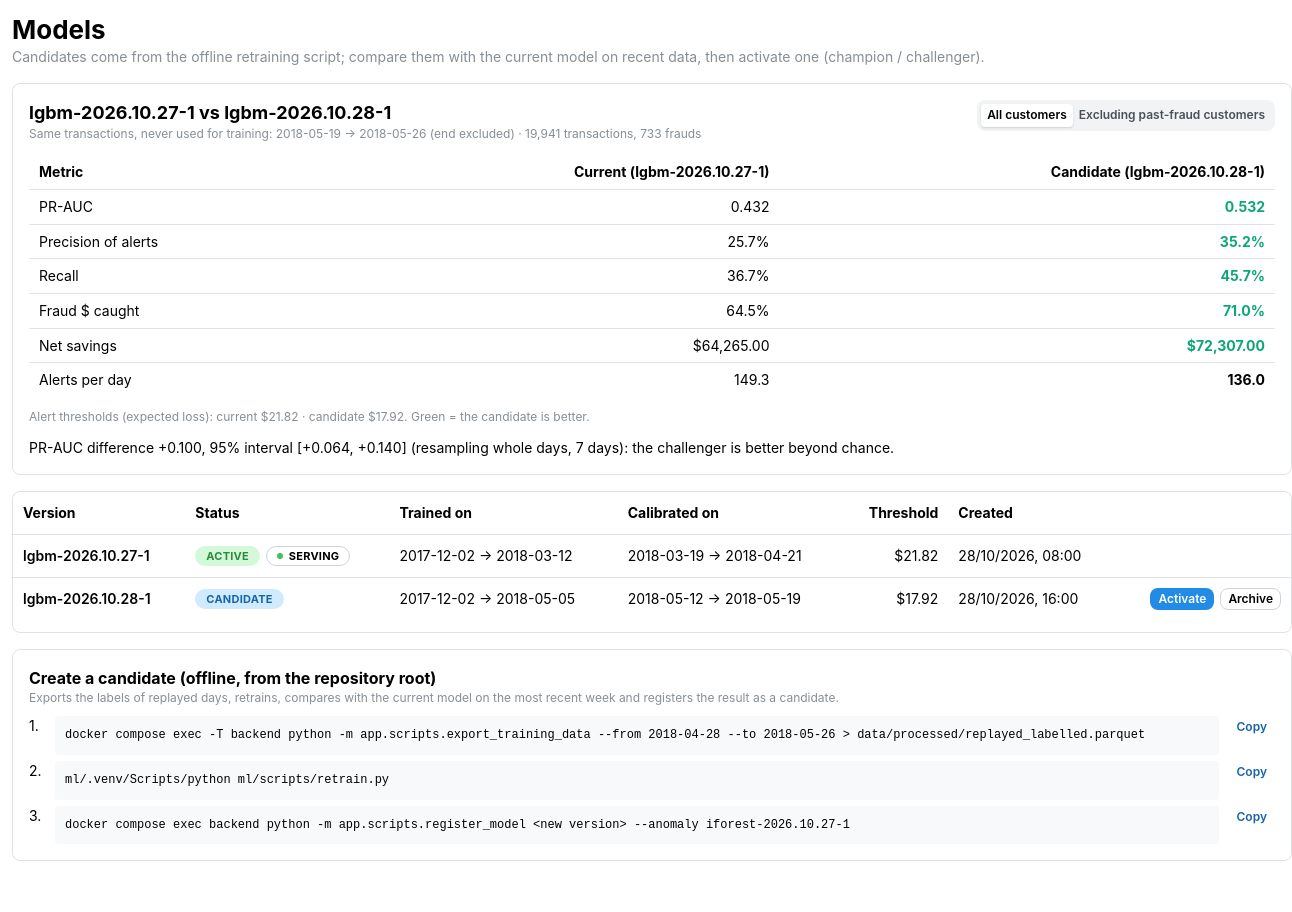
Test case: ModelsPage › lists versions and compares the candidate with the current model
The image size is (1292, 912).
expect the text "active" is shown: met, box [206,547,249,565]
expect the text "serving" is shown: met, box [289,547,339,565]
Click the text "Excluding past-fraud customers".
click(1172, 115)  # box [1079,107,1265,122]
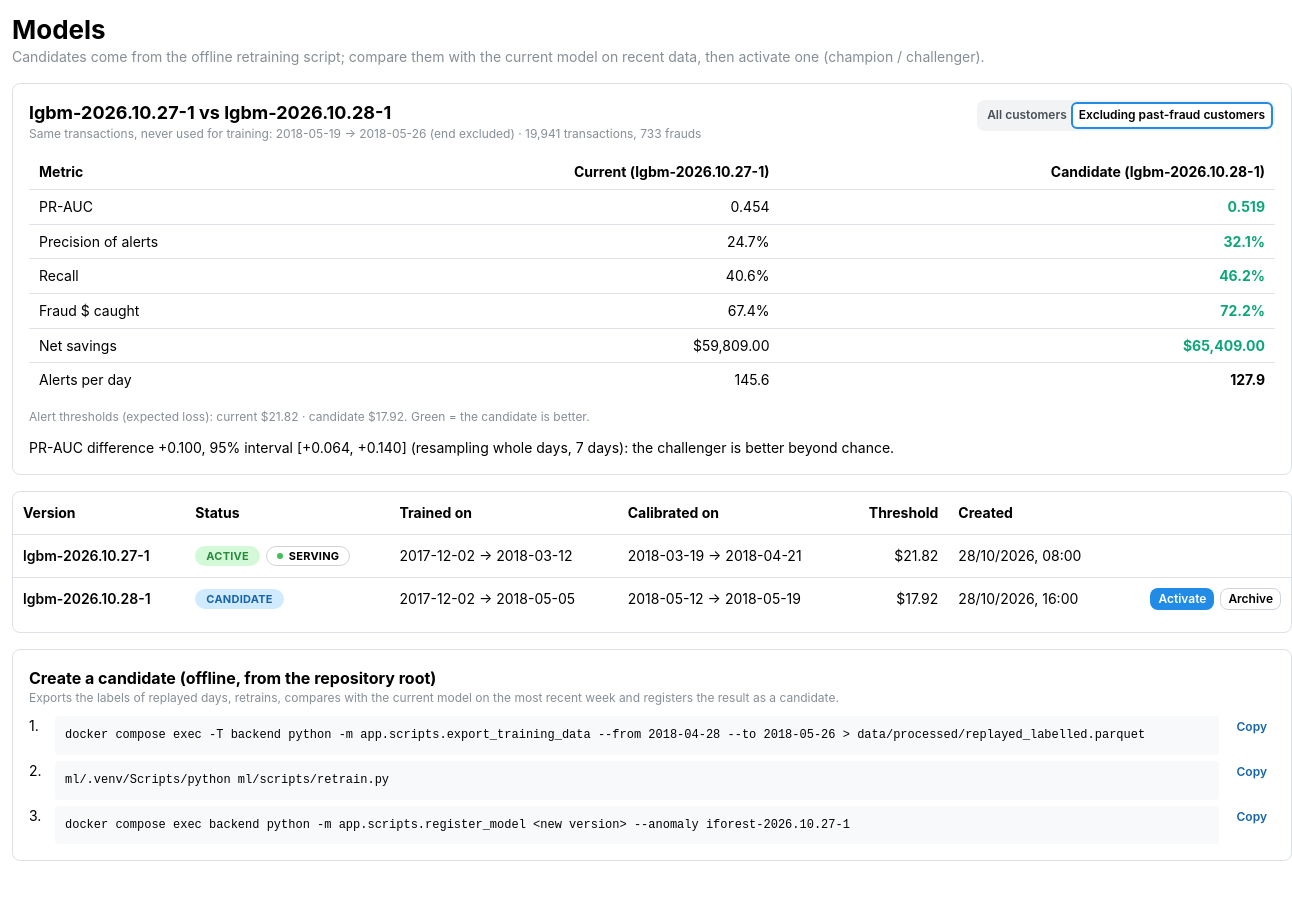
expect the text "register_model" is shown: met, box [65,818,850,832]
expect the text "0.519" is shown: met, box [780,190,1275,224]
